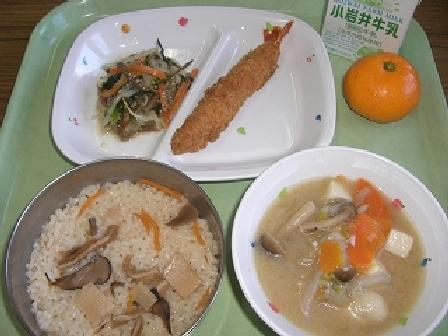Citrus: (335, 45, 427, 124)
Milk: (319, 0, 424, 50)
Mixed rice: (12, 154, 223, 331)
Salad: (84, 43, 187, 131)
Soups: (227, 156, 447, 330)
seafood: (176, 15, 294, 153)
